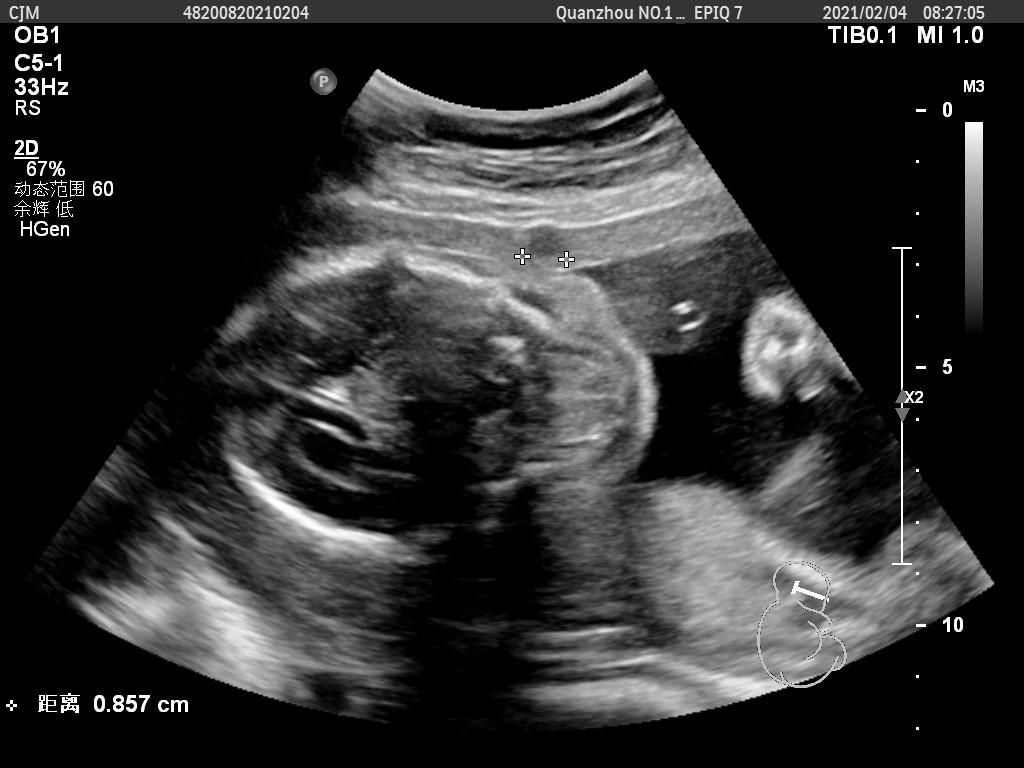肌瘤: (524, 228, 560, 257)
